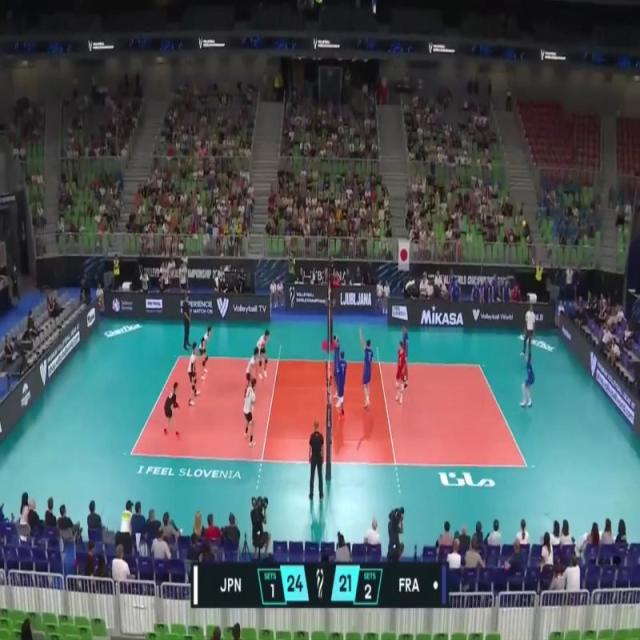volleyball: (521, 219, 527, 229)
